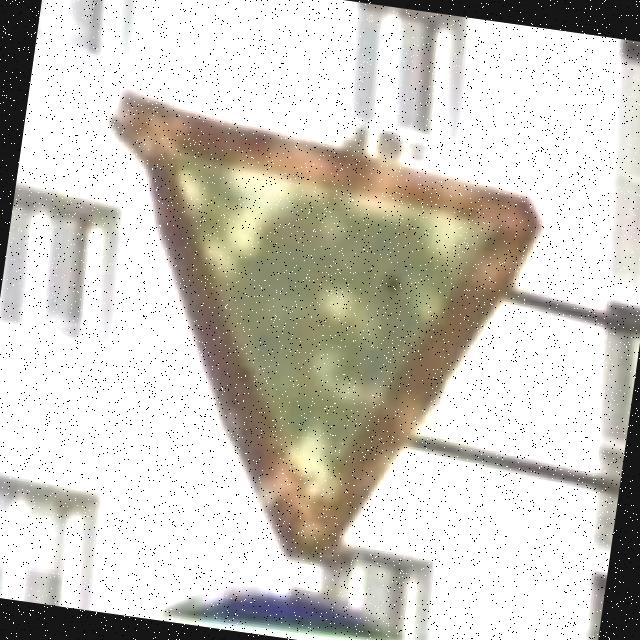Ustap pierwszenstwa: (56, 90, 554, 586)
